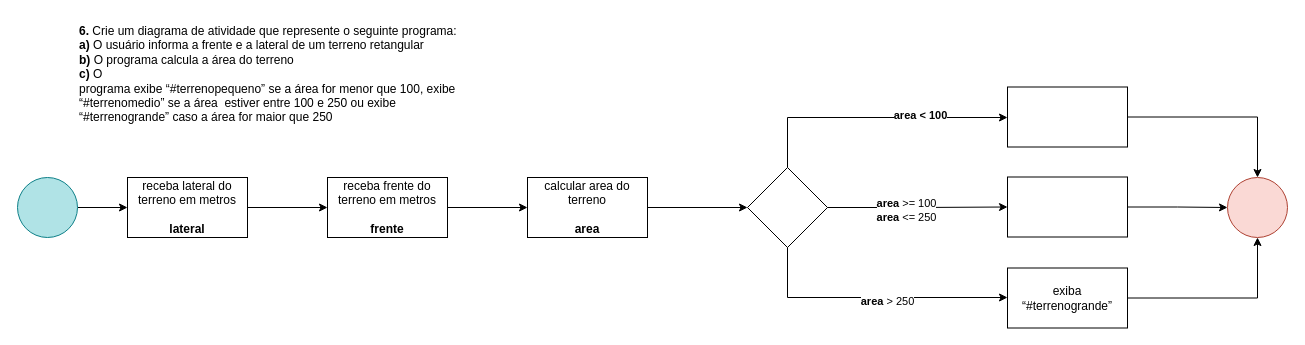
The diagram is 1305 pixels wide and 345 high, and some of its shapes have lost their labels. Each missing label, with the box of its shape:
exiba “#terrenomédio”: (1006, 176, 1128, 237)
exiba “#terrenopequeno”: (1006, 86, 1128, 147)
